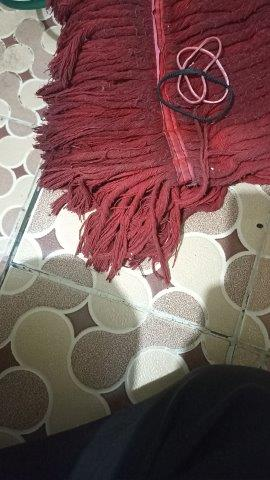karet: (157, 36, 234, 122)
